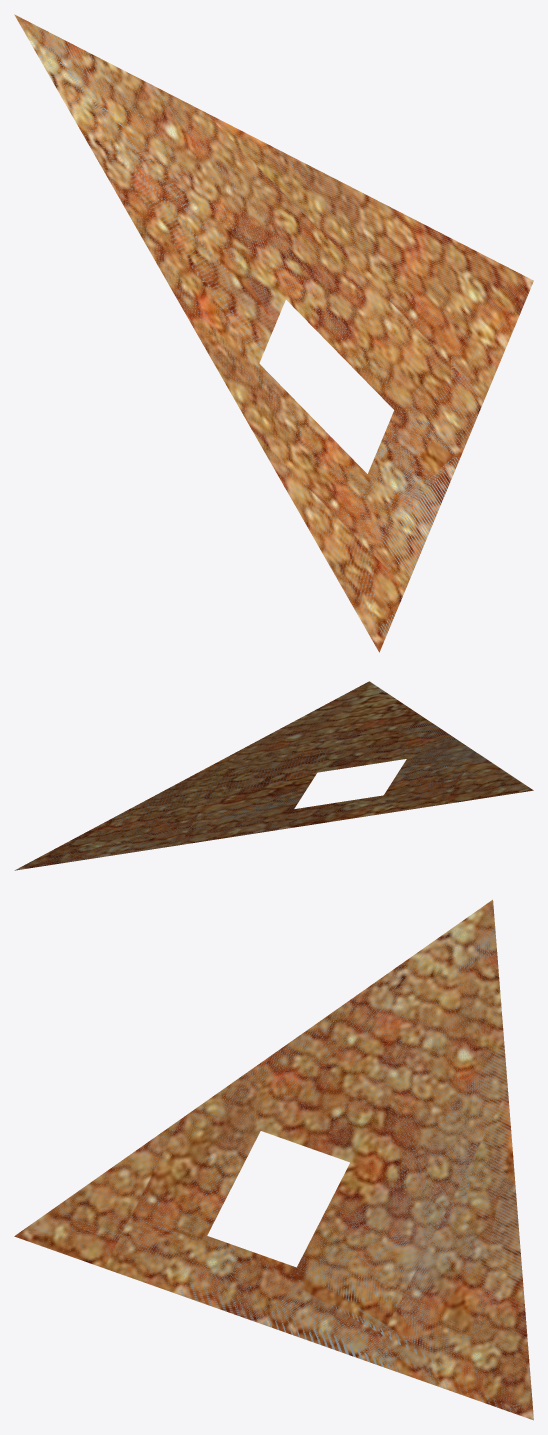
The model's file is 西庸城堡511.dae.
The picture shows the model from 3 angles, top to bottom: view 1: azimuth 30°, elevation 25°; view 2: azimuth 150°, elevation 25°; view 3: azimuth 270°, elevation 25°; orthographic projection. The views are drawn at different scales.
Visible parts, largest first — view 1: SketchUp; view 2: SketchUp; view 3: SketchUp.
Boxes of the visible parts, box(x1,y1,x2,y2) form: SketchUp: box(14, 14, 533, 652); SketchUp: box(14, 681, 533, 870); SketchUp: box(14, 899, 533, 1420).
Bounding box in the file's own units: 113 × 123 × 82.93.
